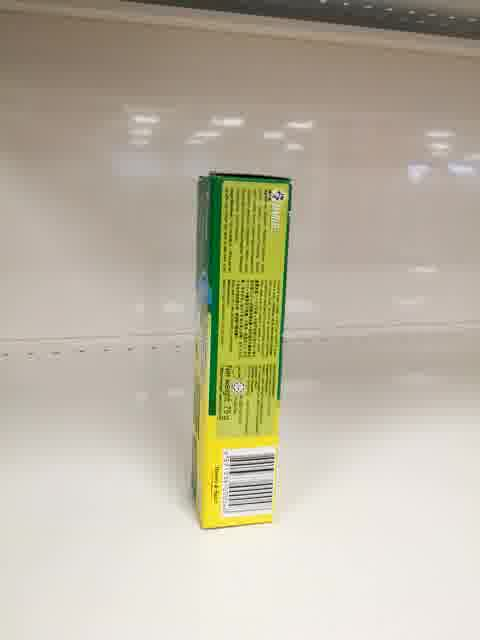toothpaste: (192, 171, 294, 536)
